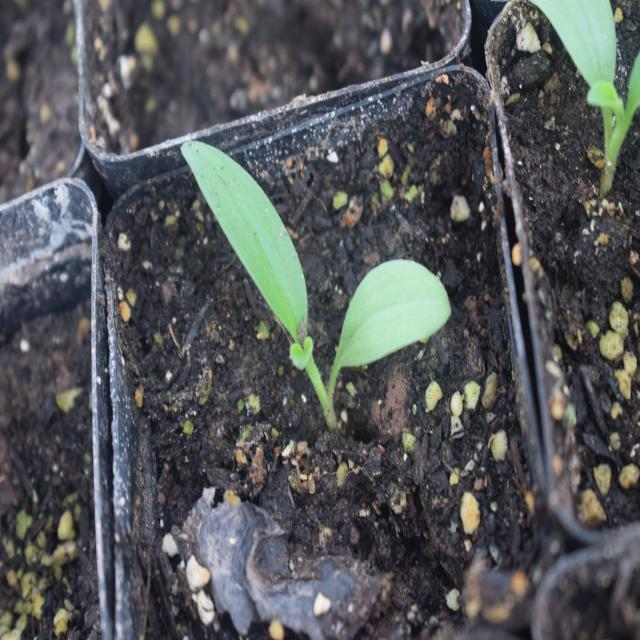Common Dayflower: (176, 132, 454, 408)
